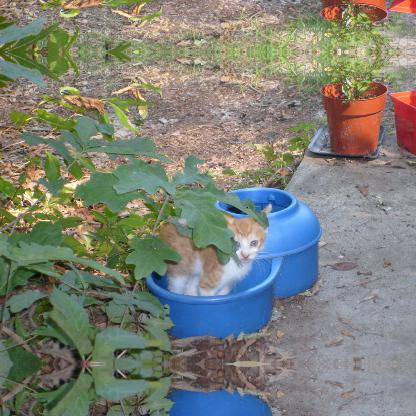Cat: (155, 202, 275, 294)
